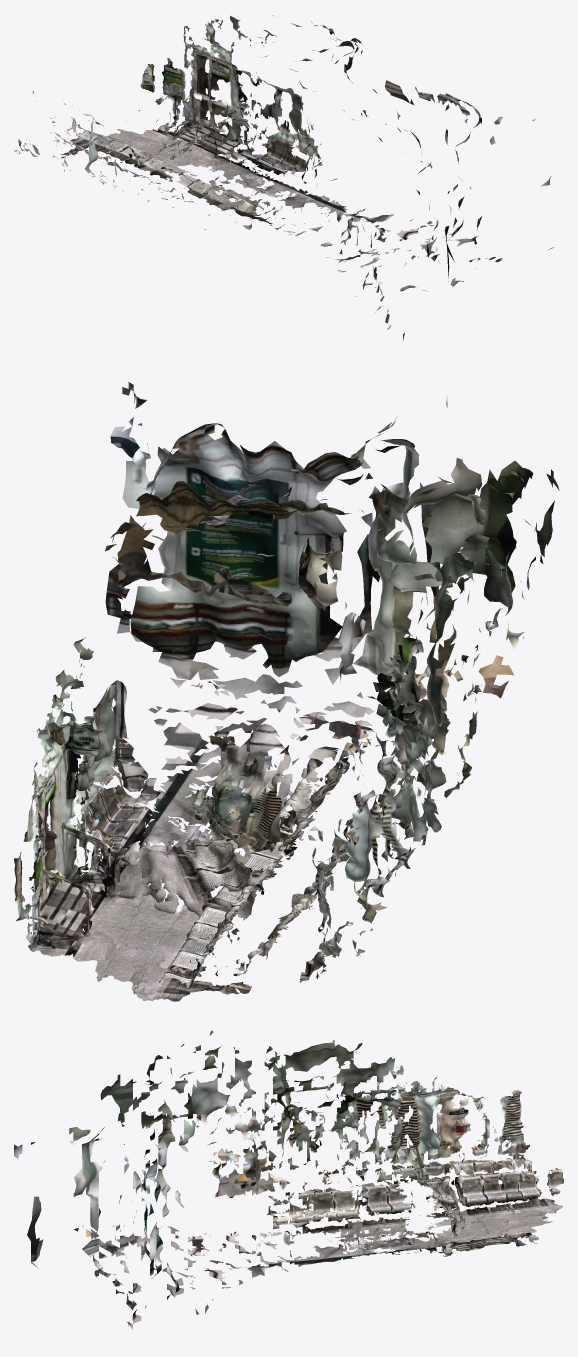
The model's file is 140515-lobbyutama2-tex.glb.
3 views of the same model, one above another, from view 1: azimuth 30°, elevation 25°; view 2: azimuth 150°, elevation 25°; view 3: azimuth 270°, elevation 25° (orthographic). The views are drawn at different scales.
Visible parts, largest first — view 1: Node; view 2: Node; view 3: Node.
Boxes of the visible parts, <box> form: Node: <box>14,15,553,340</box>; Node: <box>14,382,559,1001</box>; Node: <box>14,1030,563,1329</box>.
Bounding box in the file's own units: 9.97 × 7.13 × 14.42.
14 materials, 14 textured.
